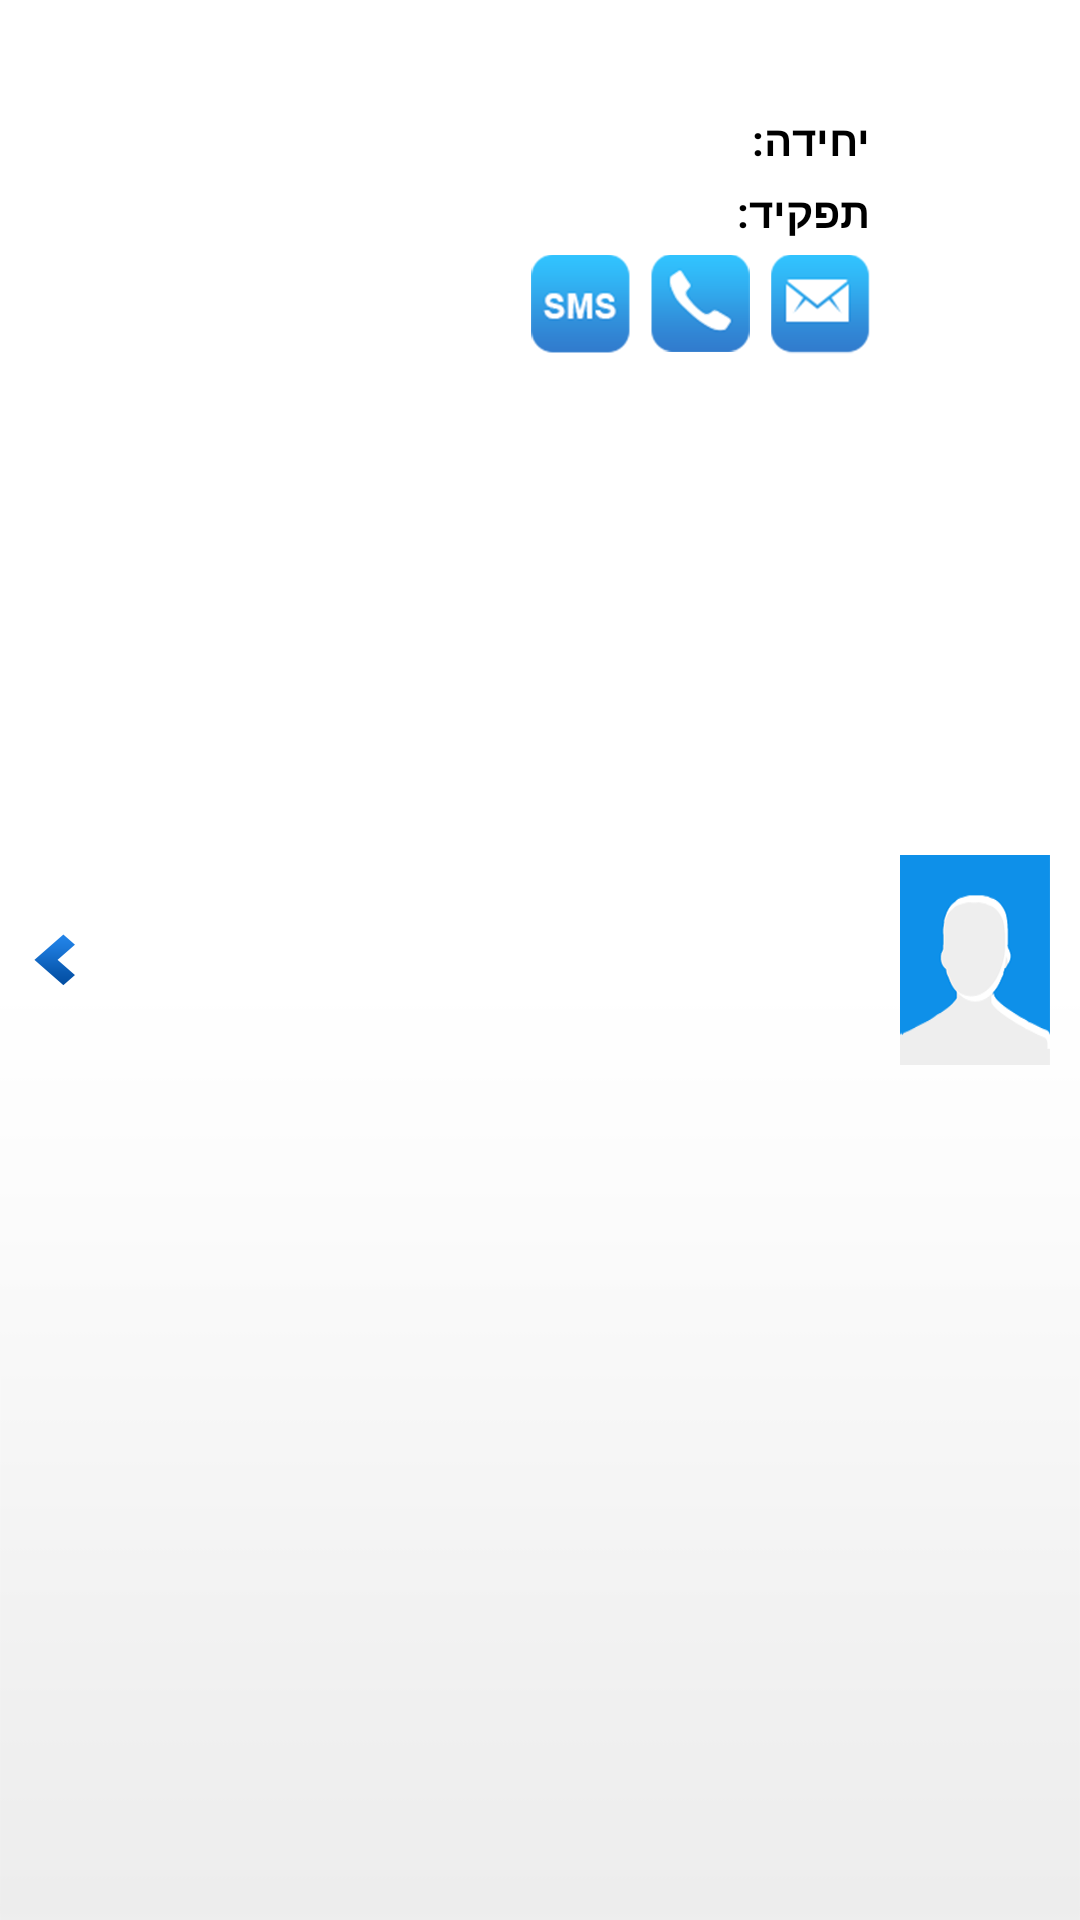

Screen size 1080px x 1920px. Icon name, then its center in pixels as [x,y]:
arrowleft: [54,959]
cellprofileimg: [975,945]
emailicon: [820,304]
phoneicon: [700,303]
